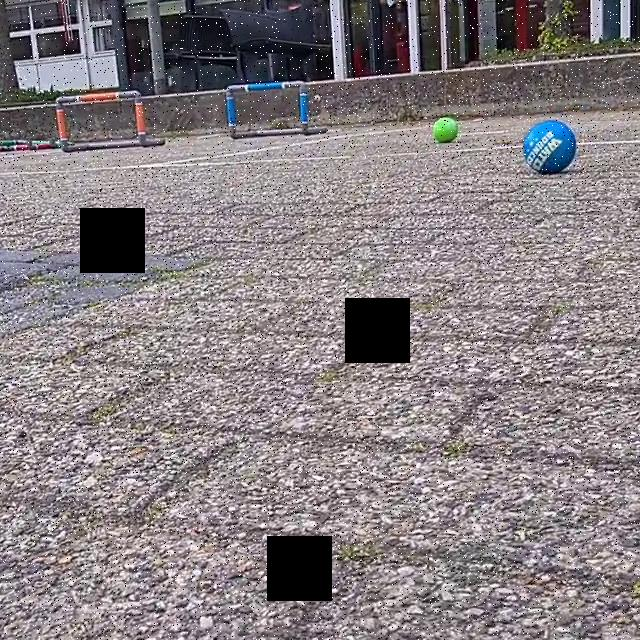ball: (432, 114, 461, 147)
